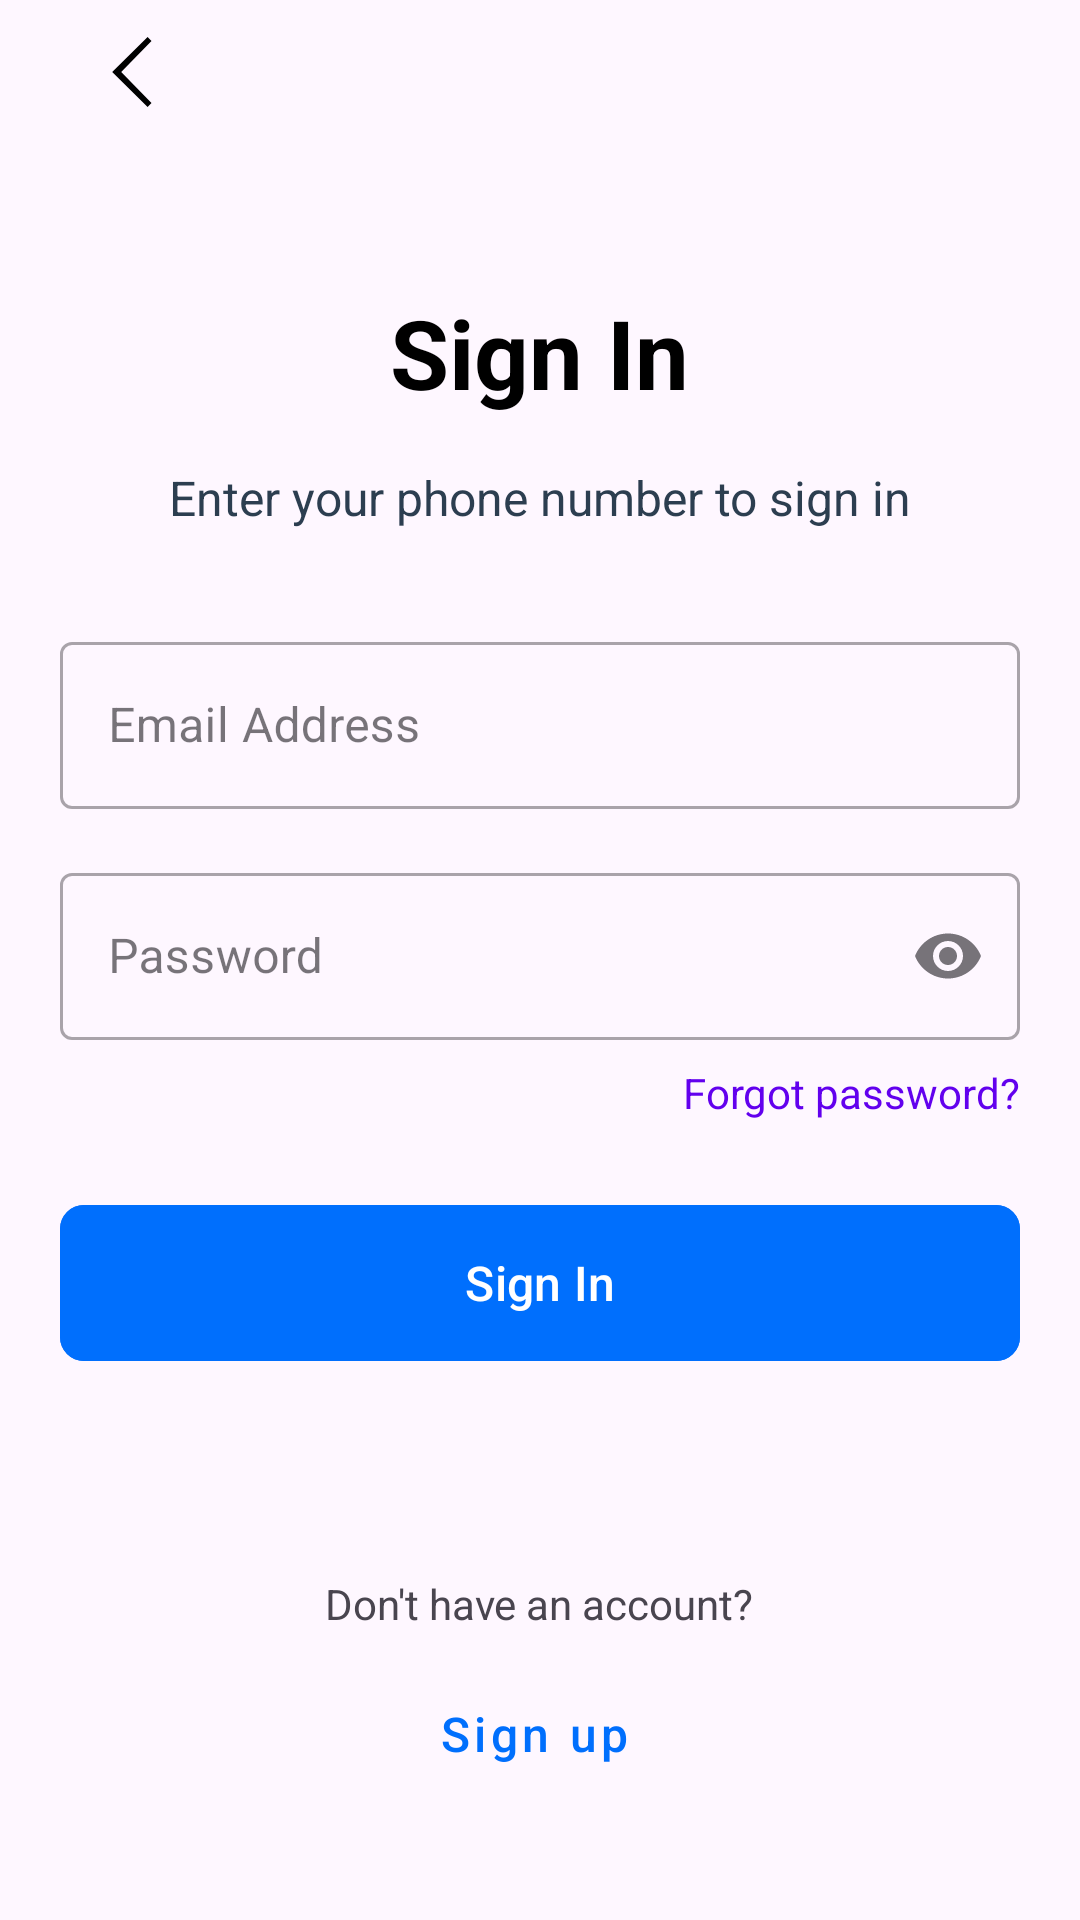

Named icons in this screenshot (1080x1920) and their centers, point (x, y):
back: point (132, 72)
